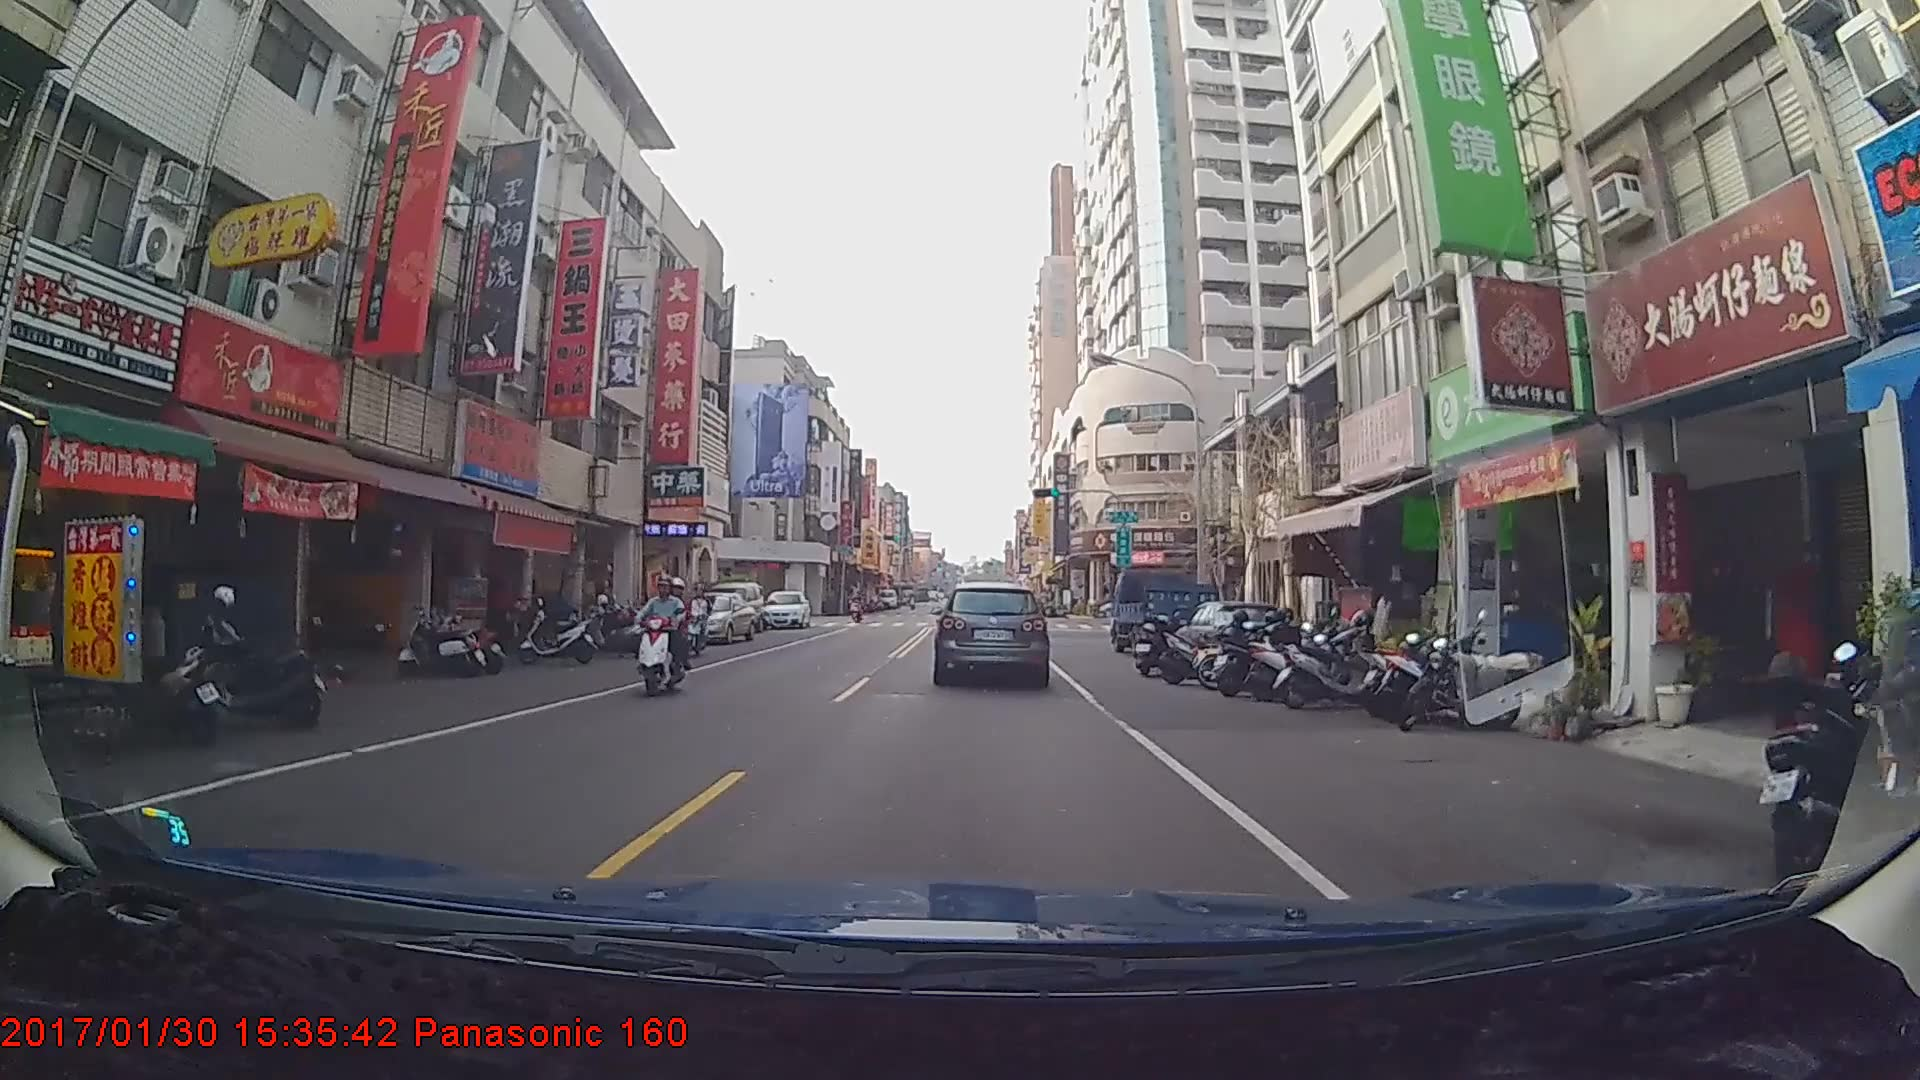rider: (632, 572, 700, 701), (847, 581, 867, 616)
vehicle: (936, 580, 1048, 684), (1106, 565, 1221, 656), (666, 588, 758, 644), (758, 582, 809, 625)
